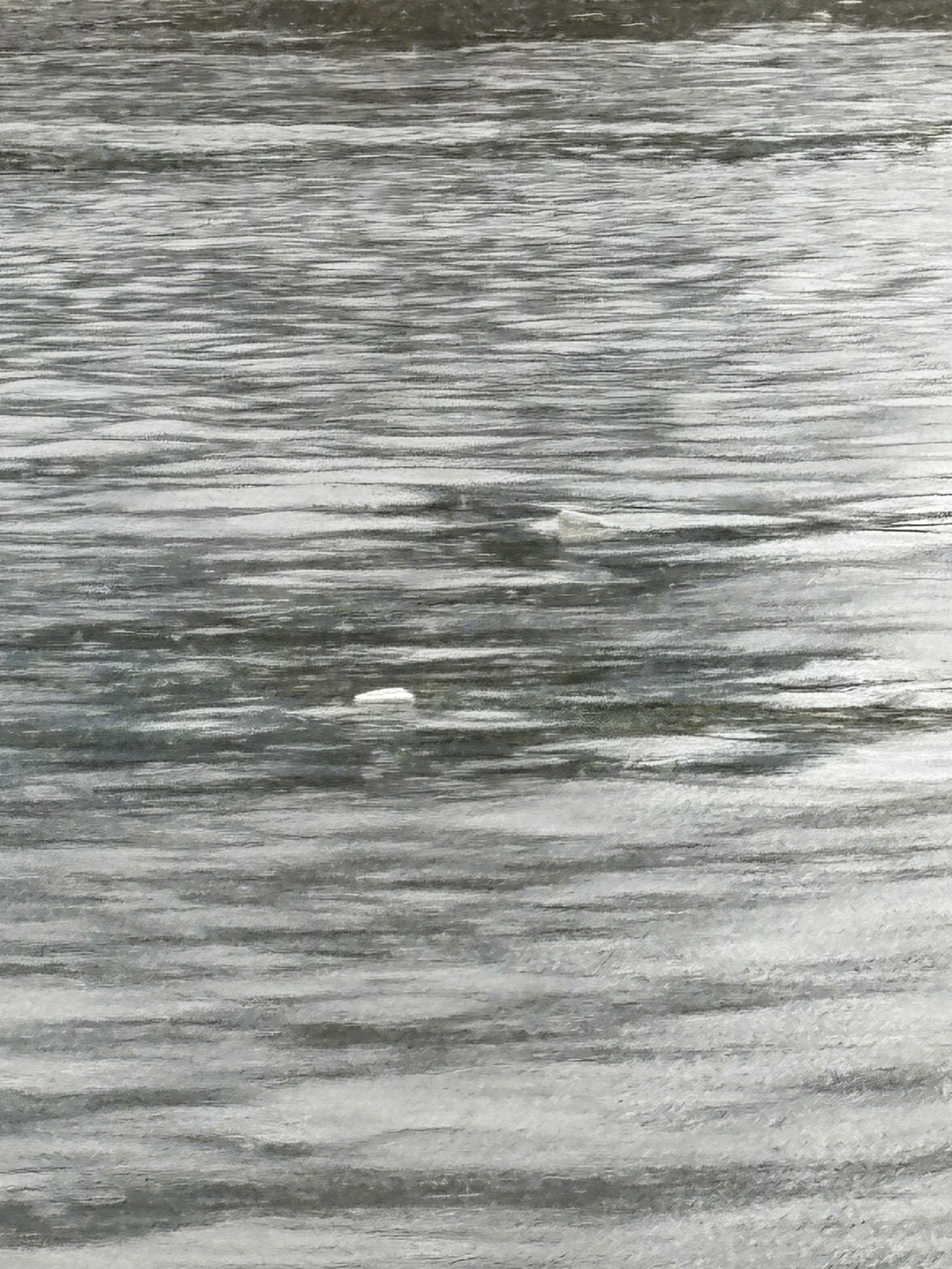Plastic wastes: (500, 723, 540, 801)
